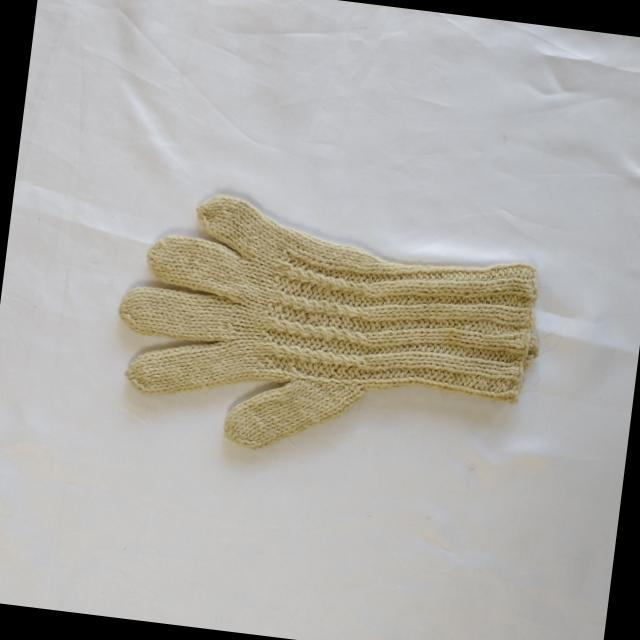Guante: (103, 182, 554, 482)
